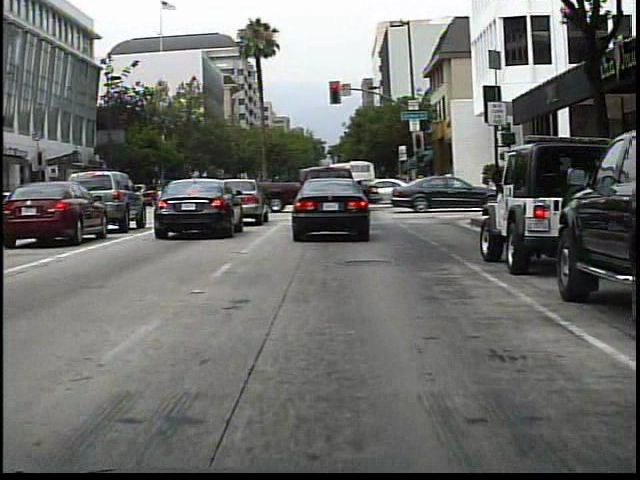person: (426, 166, 442, 198), (441, 167, 458, 196)
